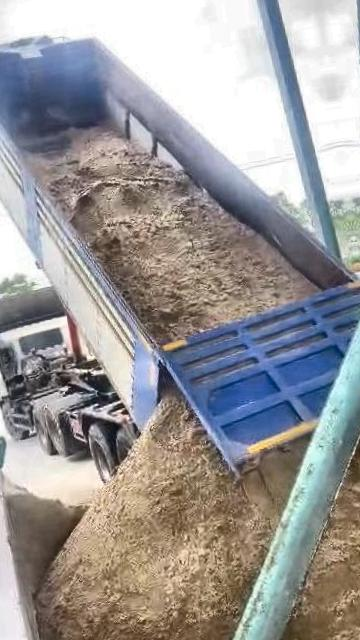sand: (38, 395, 302, 640), (28, 127, 316, 343), (274, 405, 360, 640), (5, 483, 85, 594)
